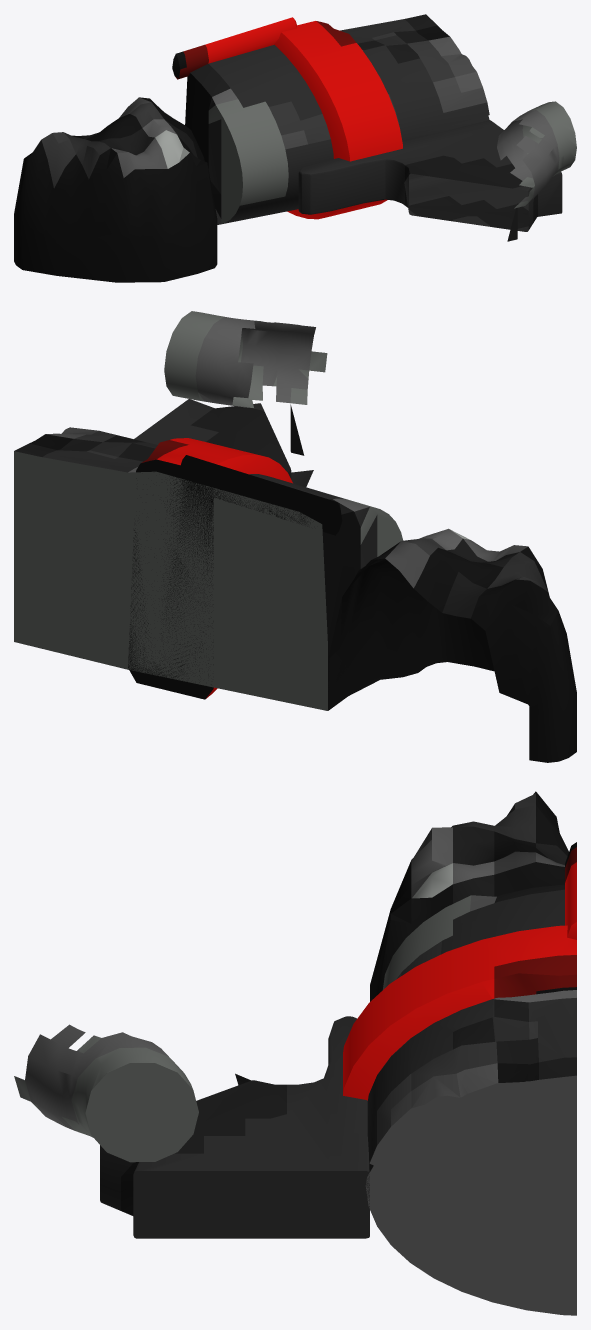
The model's file is station_r_bl_damaged.glb.
The picture shows the model from 3 angles, top to bottom: view 1: azimuth 30°, elevation 25°; view 2: azimuth 150°, elevation 25°; view 3: azimuth 270°, elevation 25°; orthographic projection. The views are drawn at different scales.
Parts seen in each view (by area): view 1: station_r_bl_damaged_dock_stub_r, station_r_bl_damaged_axle_r, station_r_bl_damaged_web0_low_r, station_r_bl_damaged_red_clamp_r, station_r_bl_damaged_strut_low_r, station_r_bl_damaged_red_rod_r; view 2: station_r_bl_damaged_axle_r, station_r_bl_damaged_dock_stub_r, station_r_bl_damaged_strut_low_r, station_r_bl_damaged_red_clamp_r, station_r_bl_damaged_web0_low_r, station_r_bl_damaged_red_rod_r; view 3: station_r_bl_damaged_axle_r, station_r_bl_damaged_web0_low_r, station_r_bl_damaged_strut_low_r, station_r_bl_damaged_red_clamp_r, station_r_bl_damaged_dock_stub_r, station_r_bl_damaged_red_rod_r.
Boxes of the visible parts, bbox=[...] form: station_r_bl_damaged_dock_stub_r: bbox=[14, 97, 217, 282]; station_r_bl_damaged_axle_r: bbox=[185, 14, 489, 224]; station_r_bl_damaged_web0_low_r: bbox=[298, 120, 562, 241]; station_r_bl_damaged_red_clamp_r: bbox=[274, 21, 402, 219]; station_r_bl_damaged_strut_low_r: bbox=[497, 101, 576, 208]; station_r_bl_damaged_red_rod_r: bbox=[172, 17, 296, 79]; station_r_bl_damaged_axle_r: bbox=[14, 427, 403, 710]; station_r_bl_damaged_dock_stub_r: bbox=[328, 528, 576, 762]; station_r_bl_damaged_strut_low_r: bbox=[164, 311, 327, 407]; station_r_bl_damaged_red_clamp_r: bbox=[128, 438, 292, 699]; station_r_bl_damaged_web0_low_r: bbox=[134, 399, 313, 486]; station_r_bl_damaged_red_rod_r: bbox=[180, 455, 342, 535]; station_r_bl_damaged_axle_r: bbox=[365, 884, 576, 1315]; station_r_bl_damaged_web0_low_r: bbox=[100, 1016, 369, 1238]; station_r_bl_damaged_strut_low_r: bbox=[14, 1024, 198, 1162]; station_r_bl_damaged_red_clamp_r: bbox=[343, 925, 576, 1100]; station_r_bl_damaged_dock_stub_r: bbox=[370, 791, 568, 1001]; station_r_bl_damaged_red_rod_r: bbox=[565, 842, 576, 939].
Size of the model in its own units: 18.99 by 8.04 by 13.56.
